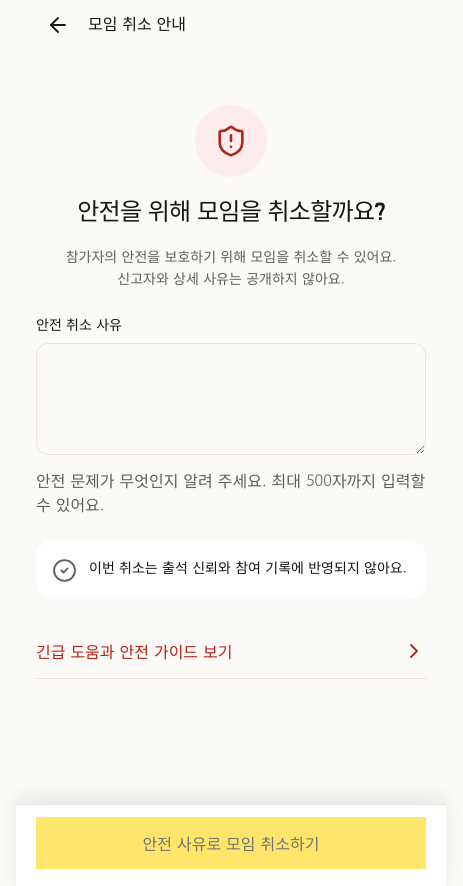
Scenario: SafetyCancelPage API behavior › does not show a receipt before the server response, deduplicates in flight, then shows success
Step 1. Type "안전 우려" into the text box labelled "안전 취소 사유" → (231, 399), box [36,343,426,455]
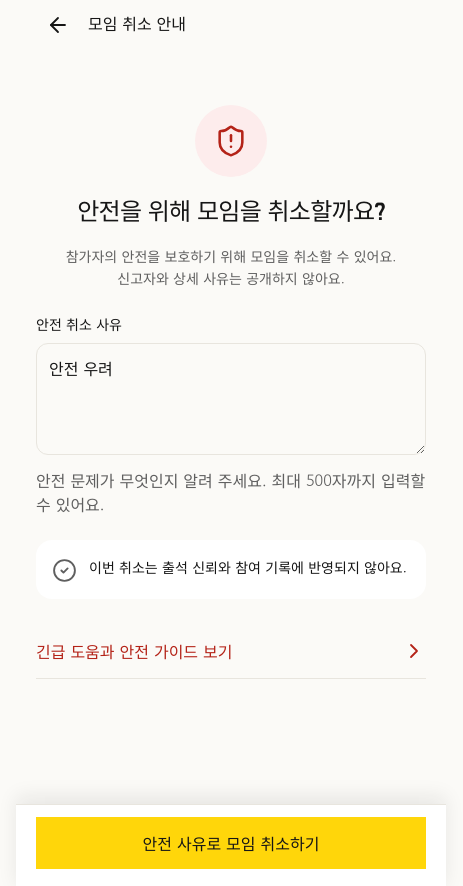
expect the button "안전 사유로 모임 취소하기" is enabled: met
Step 2. Click the button "안전 사유로 모임 취소하기" → (231, 843), box [36,817,426,869]
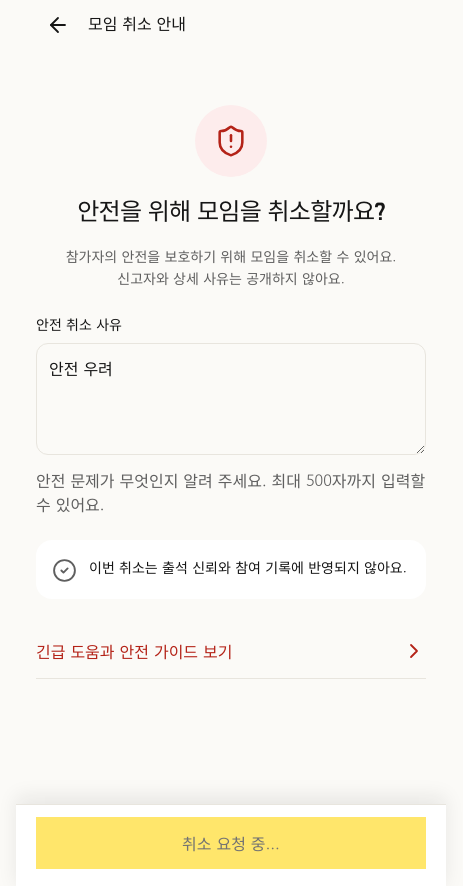
Step 3. Click the button named "안전 사유로 모임 취소하기" → (231, 843), box [36,817,426,869]
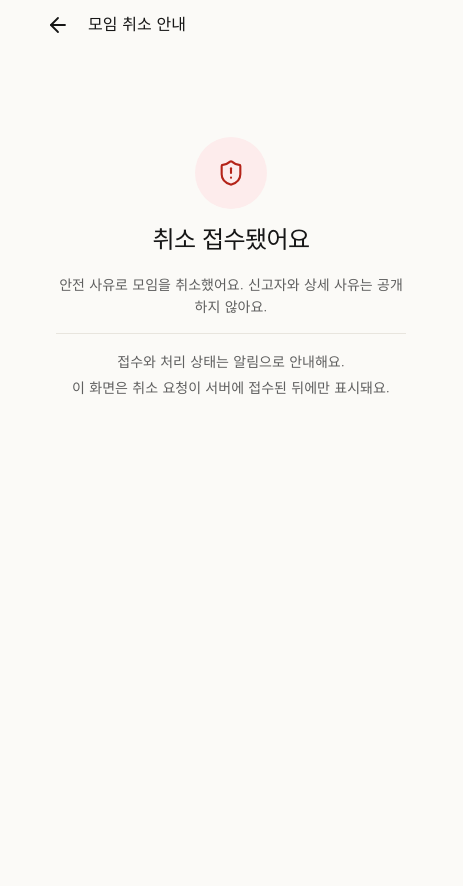
expect the heading "취소 접수됐어요" is shown: met, box [152,229,310,253]
